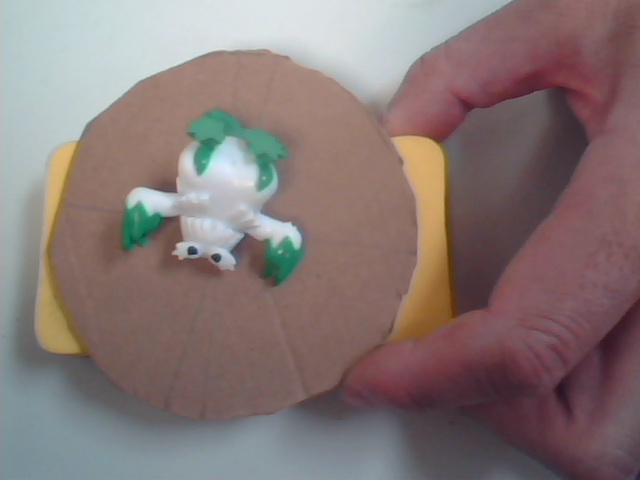abomasnow: (122, 104, 354, 330)
